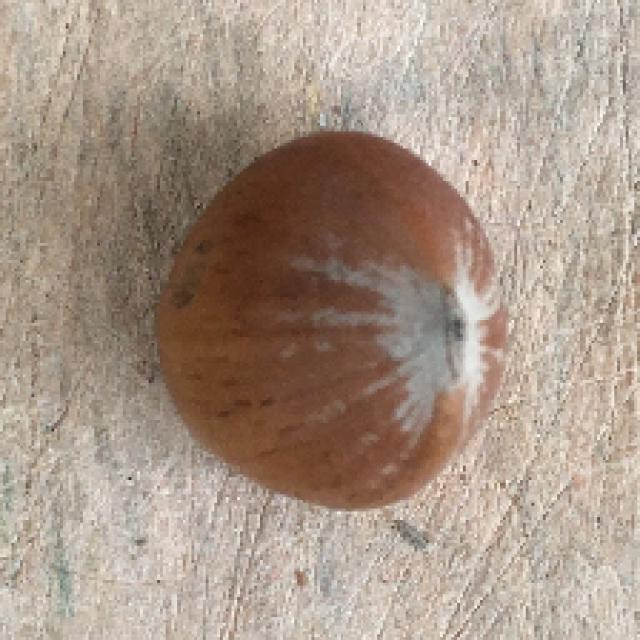qualityHazelnut: (148, 119, 518, 513)
